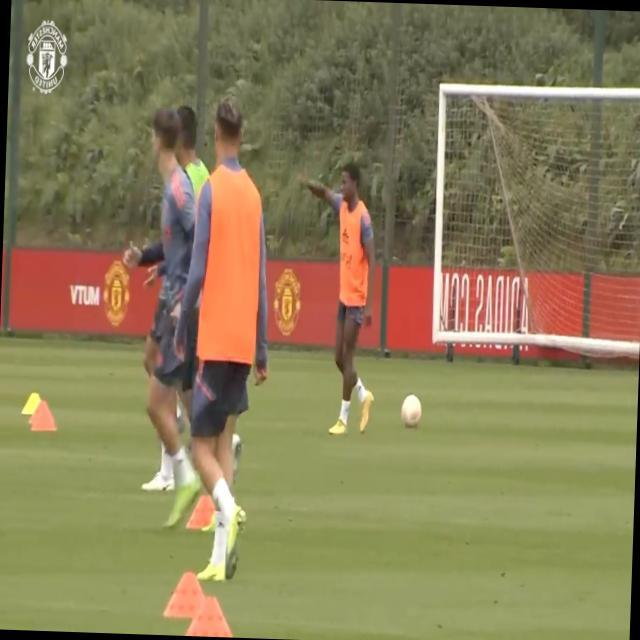Adidas: (341, 225, 351, 246)
